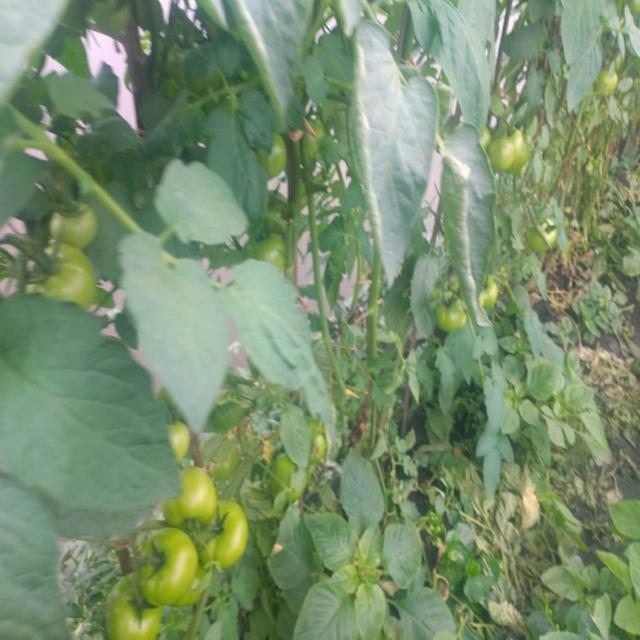tomato: (189, 493, 254, 572), (132, 536, 200, 605), (34, 248, 99, 310), (157, 465, 217, 525), (105, 580, 164, 635), (49, 192, 97, 246), (254, 224, 294, 273), (482, 121, 515, 171), (260, 128, 296, 173), (266, 453, 301, 499), (436, 296, 468, 334), (163, 418, 189, 464), (505, 127, 530, 168), (529, 222, 564, 250), (596, 70, 619, 102), (475, 276, 498, 307)
